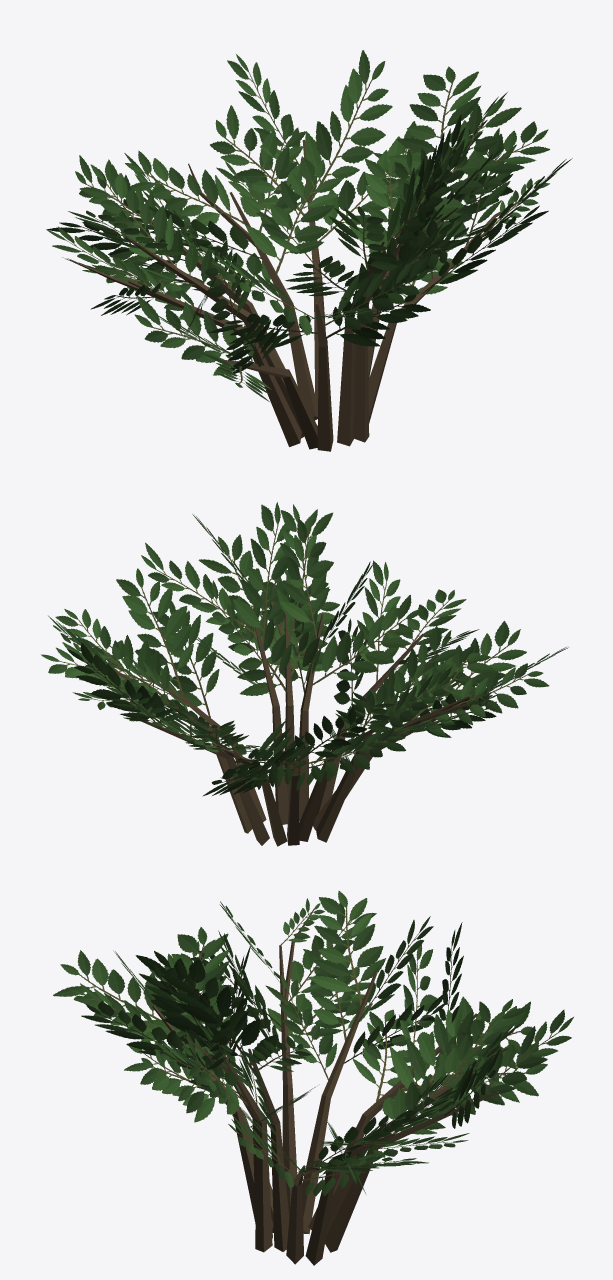
The model's file is bush_a.glb.
3 renders of one model, top to bottom at view 1: azimuth 30°, elevation 25°; view 2: azimuth 150°, elevation 25°; view 3: azimuth 270°, elevation 25°, orthographic. The views are drawn at different scales.
Visible parts, largest first — view 1: Bush_A; view 2: Bush_A; view 3: Bush_A.
Part boxes in pixels (left/top/right/bottom): Bush_A: left=46, top=50, right=572, bottom=451; Bush_A: left=41, top=502, right=568, bottom=846; Bush_A: left=53, top=891, right=573, bottom=1265.
Size of the model in its own units: 0.8 by 0.5 by 0.73.
Materials: 2 (1 with a texture image).
